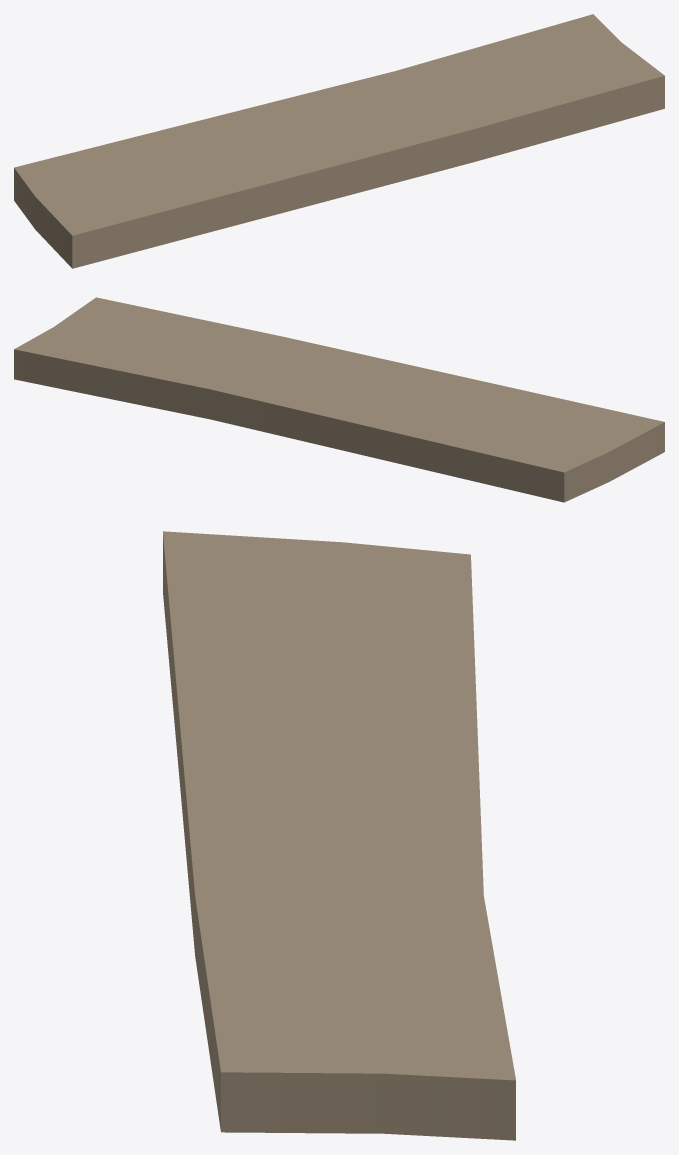
Rendered from Planche_4.fbx.
3 renders of one model, top to bottom at view 1: azimuth 30°, elevation 25°; view 2: azimuth 150°, elevation 25°; view 3: azimuth 270°, elevation 25°, orthographic. The views are drawn at different scales.
Visible parts, largest first — view 1: Planche; view 2: Planche; view 3: Planche.
Boxes of the visible parts, left/top/right/bottom form: Planche: left=14, top=14, right=664, bottom=268; Planche: left=14, top=297, right=664, bottom=502; Planche: left=163, top=531, right=515, bottom=1140.
Bounding box in the file's own units: 81.92 × 4.18 × 22.28.
